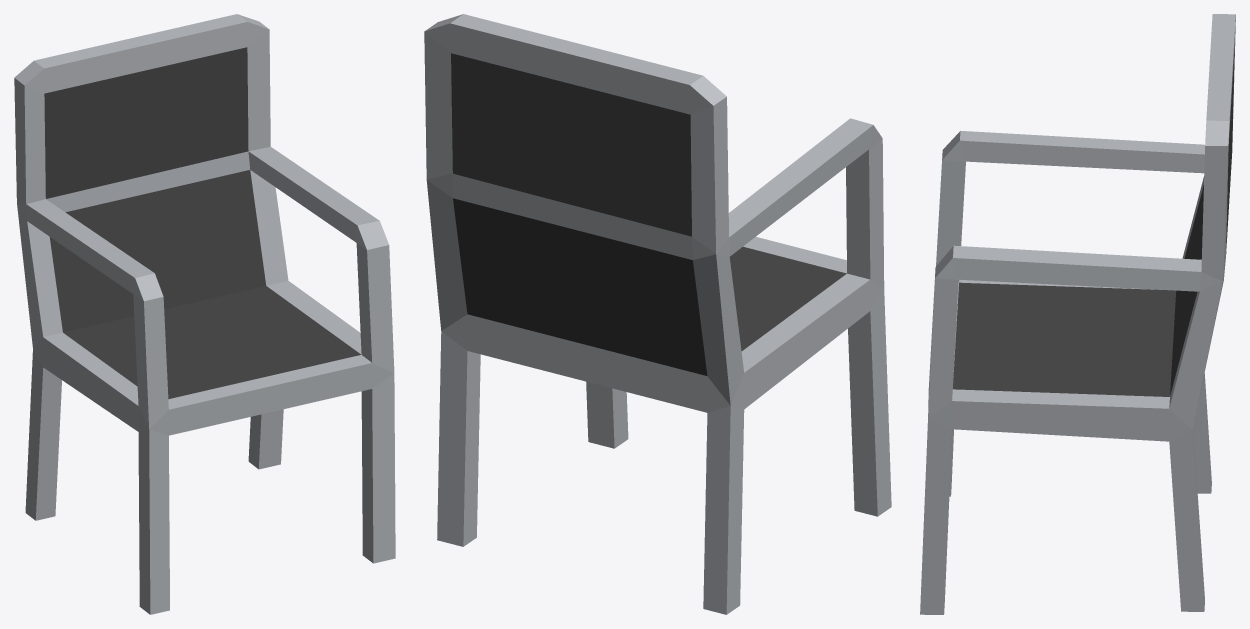
The model's file is PatioChair.obj.
3 views of the same model, side by side, from view 1: azimuth 30°, elevation 25°; view 2: azimuth 150°, elevation 25°; view 3: azimuth 270°, elevation 25° (orthographic). The views are drawn at different scales.
Parts seen in each view (by area): view 1: PatioChair; view 2: PatioChair; view 3: PatioChair.
Boxes of the visible parts, box(x1,y1,x2,y2) form: PatioChair: box(14, 14, 395, 614); PatioChair: box(424, 14, 891, 614); PatioChair: box(920, 14, 1235, 614).
Size of the model in its own units: 0.54 by 0.92 by 0.543.
1 material, 1 textured.
